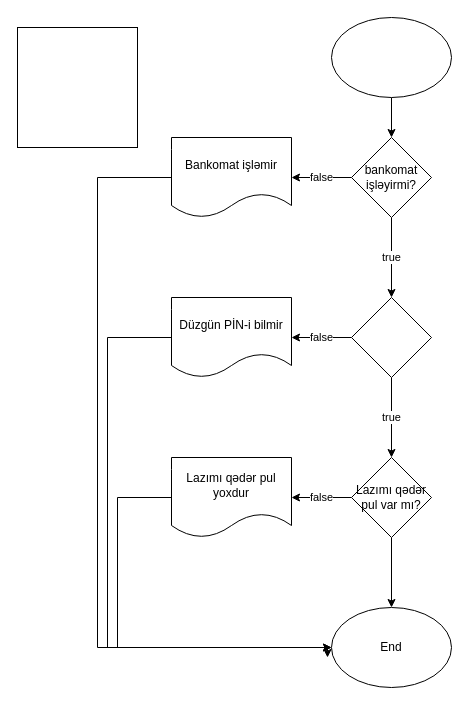
This 469x705 diagram has some shape labels left out. The shapes that lost their labels are listed below. From the top down, each one's centre as x and y in pixels, then its label:
At (x=391, y=57): "Start".
At (x=77, y=87): "Bankomatdan pul çıxartmaq".
At (x=391, y=337): "Düzgün PİN-i bilirmi?".
